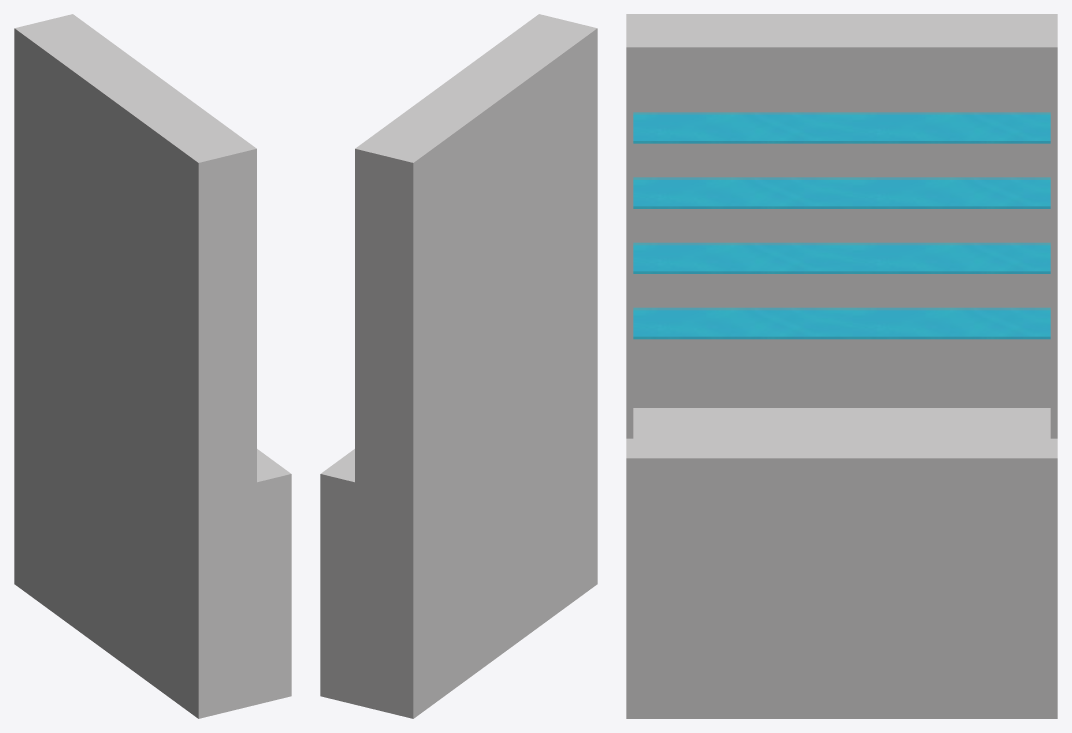
Rendered from back_brace.gltf.
3 renders of one model, left to right at view 1: azimuth 30°, elevation 25°; view 2: azimuth 150°, elevation 25°; view 3: azimuth 270°, elevation 25°, orthographic. The views are drawn at different scales.
Visible parts, largest first — view 1: back_brace; view 2: back_brace; view 3: back_brace.
Boxes of the visible parts, x1,y1,x2,y2 form: back_brace: [14, 14, 291, 718]; back_brace: [320, 14, 597, 718]; back_brace: [626, 14, 1057, 718].
Bounding box in the file's own units: 0.35 × 2 × 1.2.
2 materials, 1 textured.
